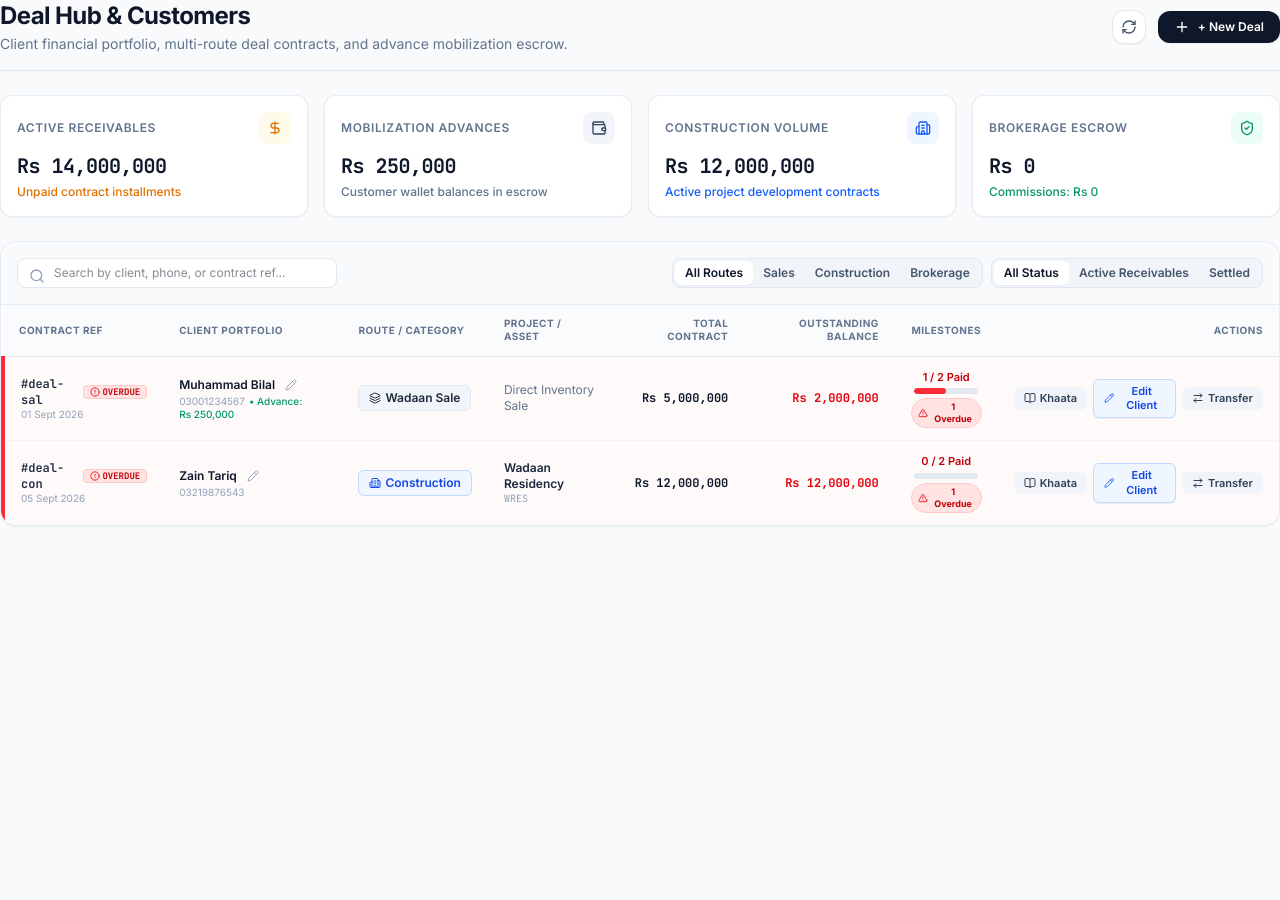
Test: Screen 8: Deal Hub & Customer Portfolio (DealHubPage) › 9. CreateDealModal enforces zero-sum math: blocks submission if milestones sum does not equal totalValue
Click the button with test id "btn-new-deal" at (1219, 27), box x1=1158 y1=11 x2=1279 y2=43
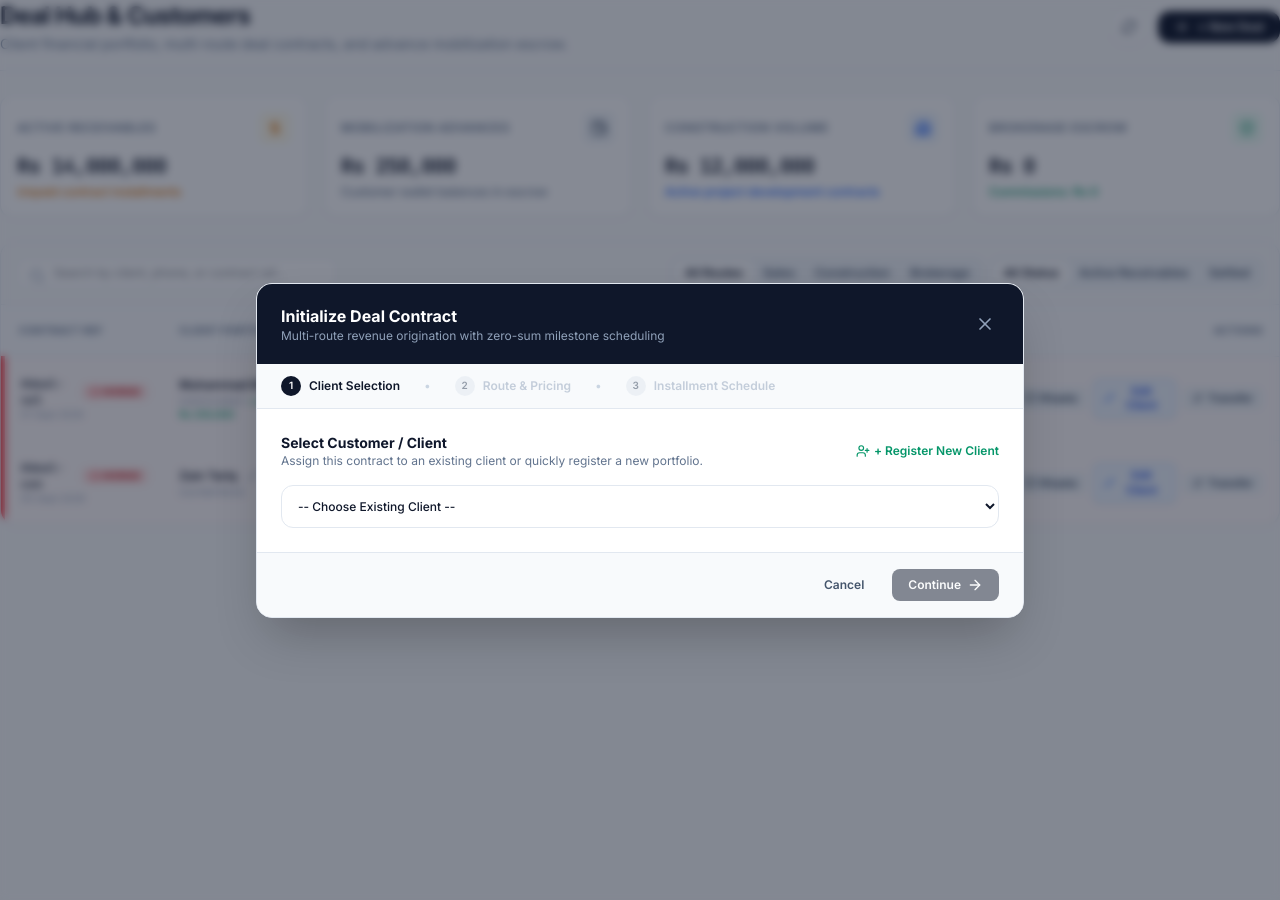
// select customer
Select "Muhammad Bilal • Phone: 03001234567 (Advance Held: Rs 250,000)" in the dropdown at (640, 506), box x1=281 y1=484 x2=999 y2=528
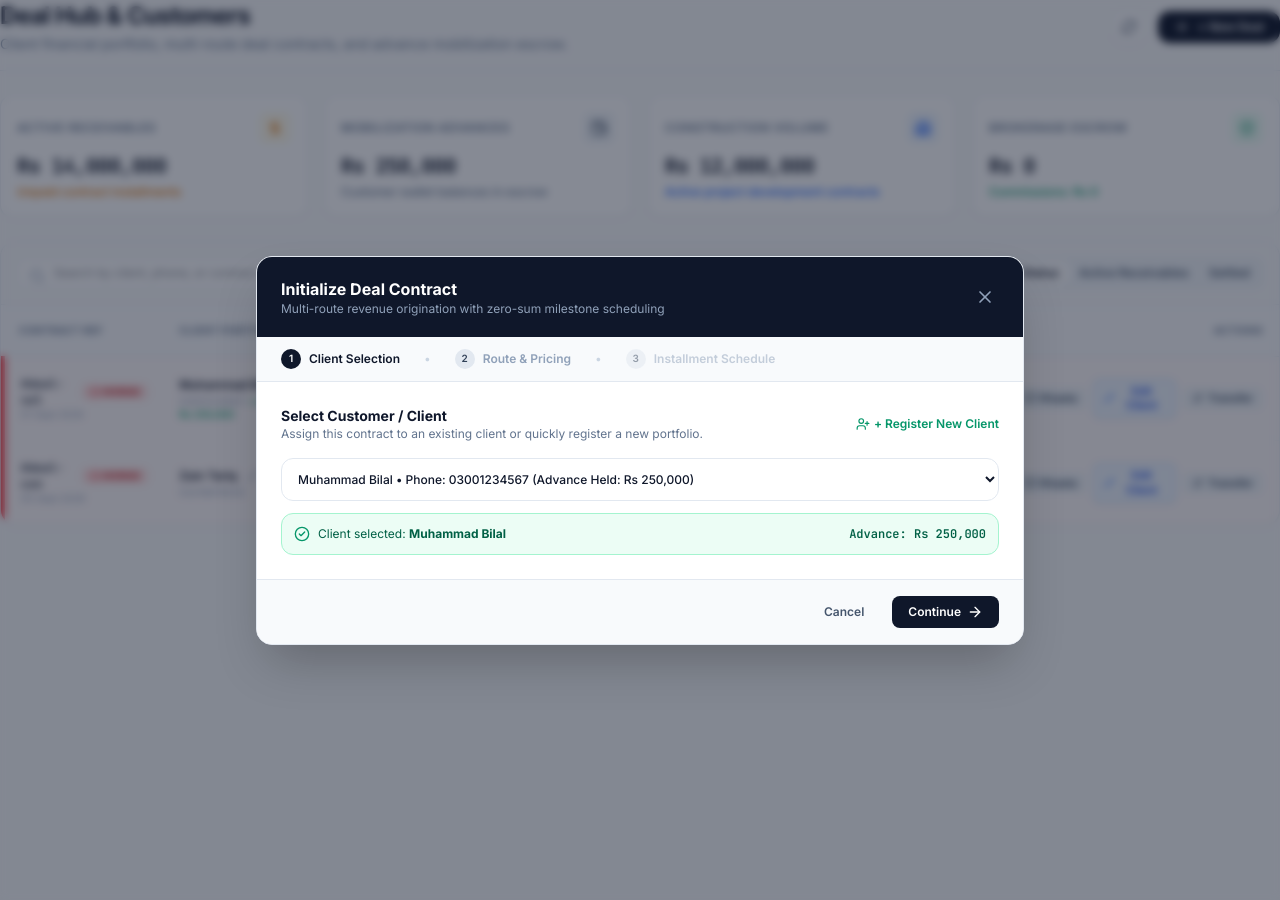
Click the button "Continue" at (946, 612), box x1=892 y1=596 x2=999 y2=628
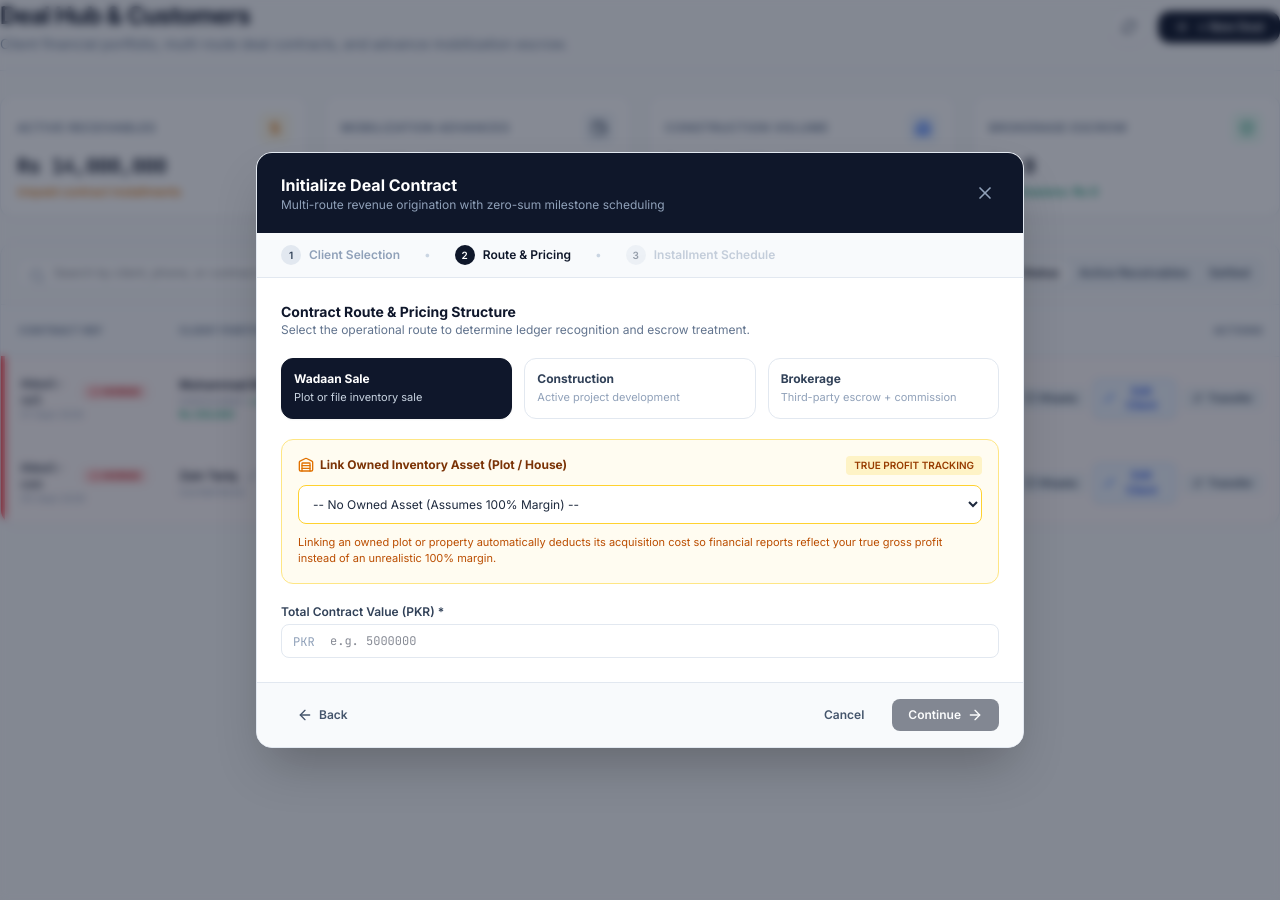
Type "5000000" into the number field with placeholder "e.g. 5000000" at (640, 641), box x1=281 y1=624 x2=999 y2=658
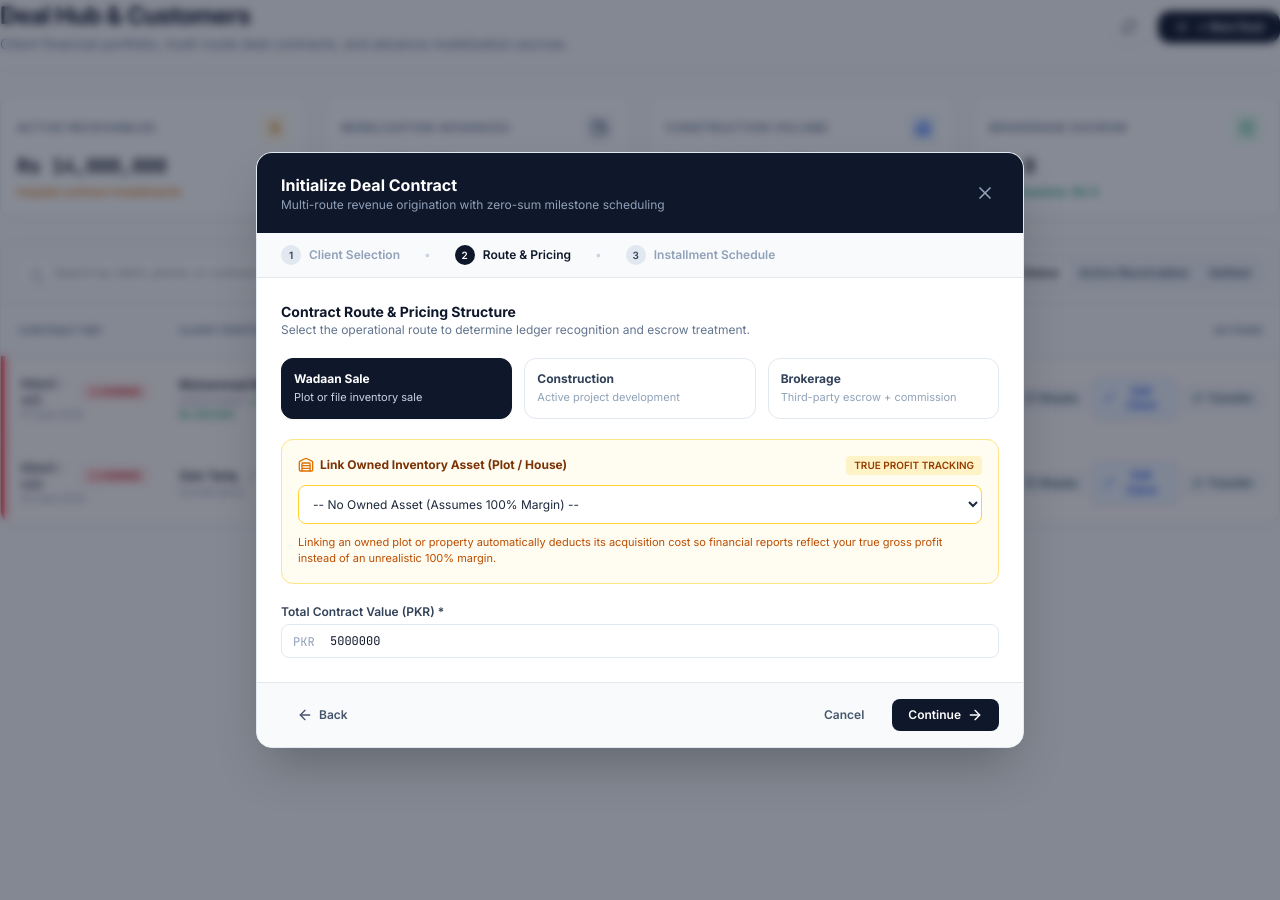
Click the button "Continue" at (946, 715), box x1=892 y1=699 x2=999 y2=731
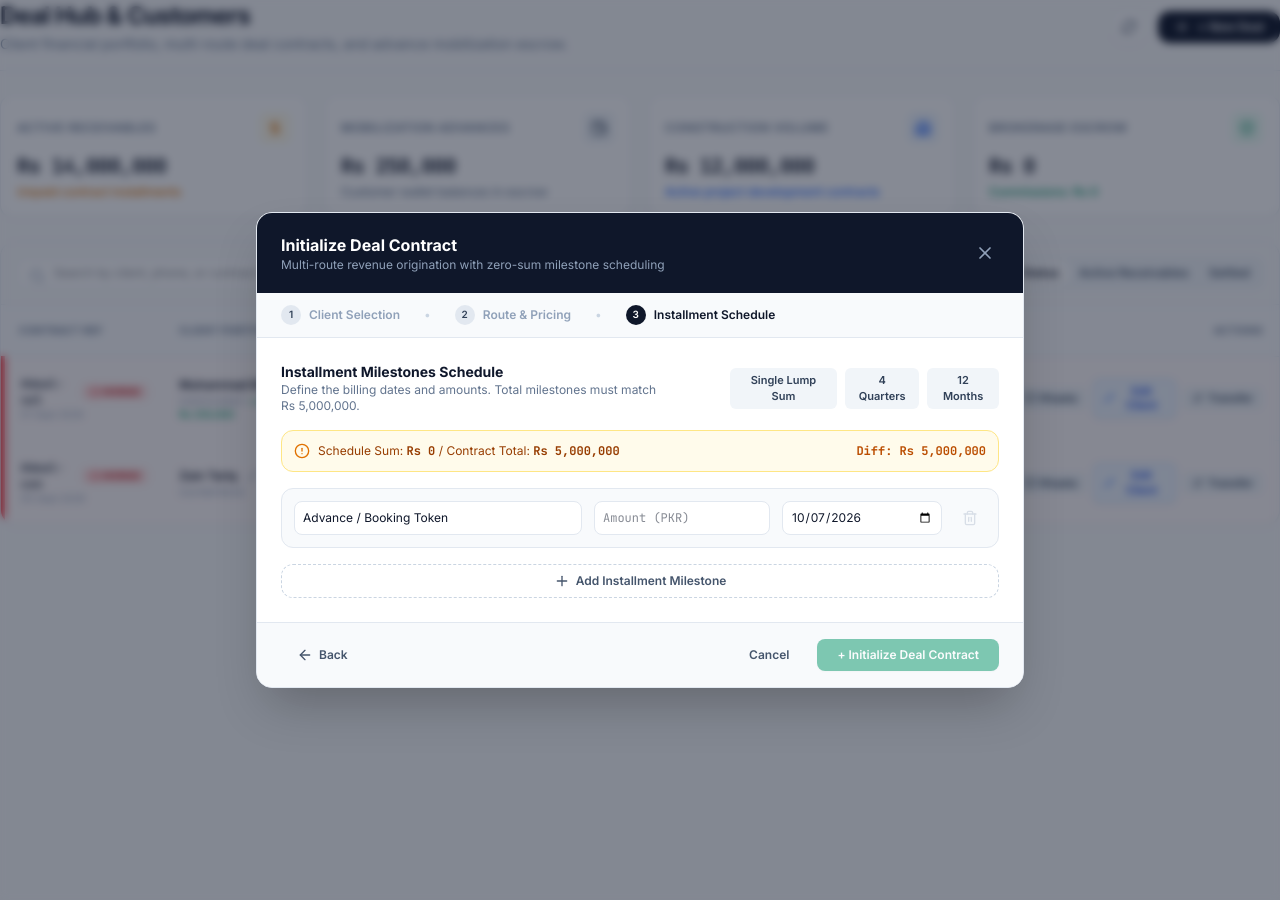
Expected: the button "+ Initialize Deal Contract" is disabled, x1=817 y1=639 x2=999 y2=671
// Match lump sum
Click the button "Single Lump Sum" at (783, 388), box x1=730 y1=368 x2=837 y2=408
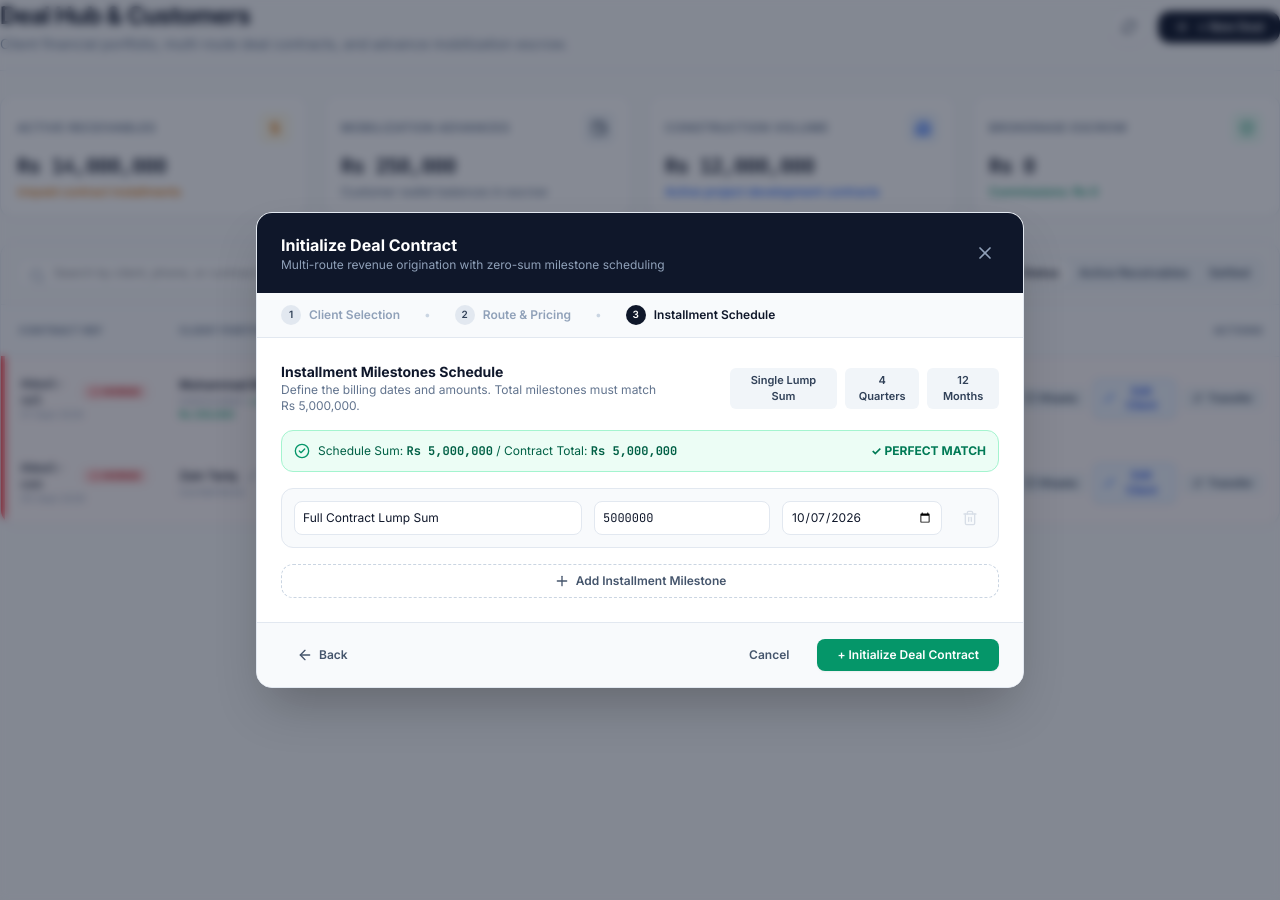
Expected: the text "✓ PERFECT MATCH" is shown, x1=871 y1=443 x2=986 y2=458
Expected: the button "+ Initialize Deal Contract" is enabled, x1=817 y1=639 x2=999 y2=671
